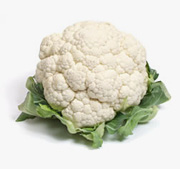cauliflower: (14, 16, 171, 149)
